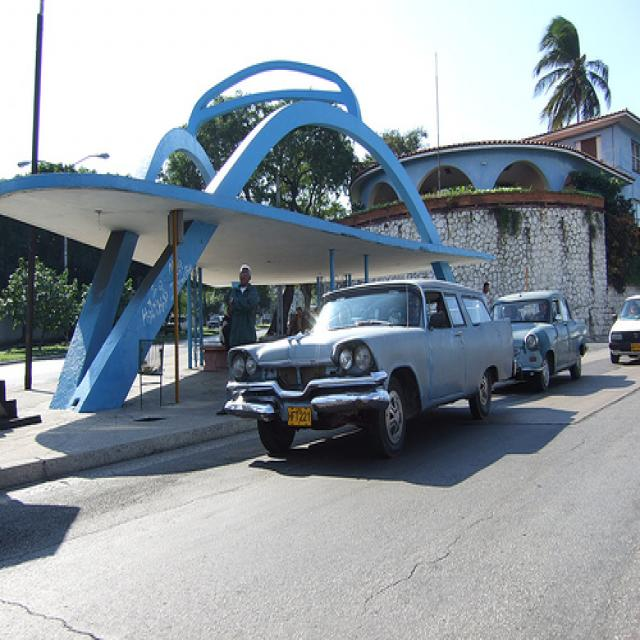Car: (225, 280, 519, 464), (492, 284, 590, 388), (612, 290, 640, 371)
